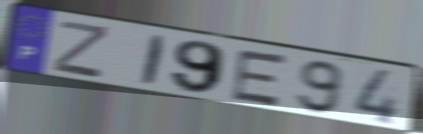4: (352, 67, 403, 128)
9: (170, 39, 231, 98), (294, 59, 346, 118)
E: (228, 46, 292, 109)
I: (138, 33, 169, 89)
Z: (50, 18, 112, 82)
